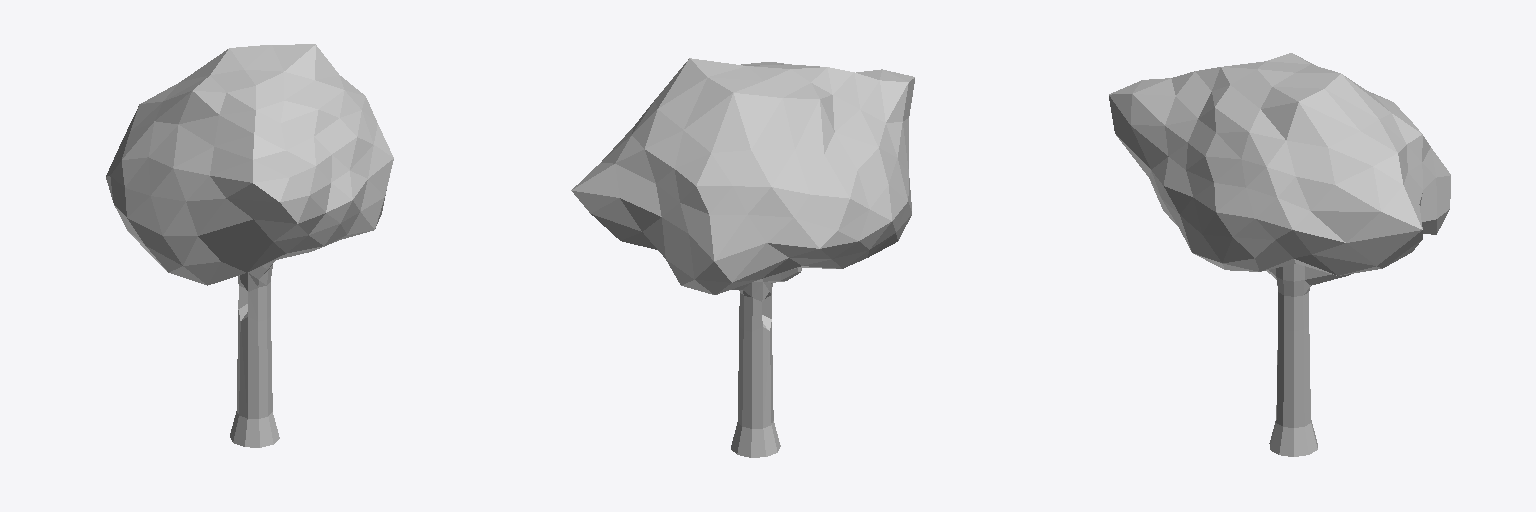
File: afro_tree_green.obj
3 renders of one model, left to right at view 1: azimuth 30°, elevation 25°; view 2: azimuth 150°, elevation 25°; view 3: azimuth 270°, elevation 25°, orthographic.
Visible parts, largest first — view 1: t3-green_Cylinder; view 2: t3-green_Cylinder; view 3: t3-green_Cylinder.
Part boxes in pixels (bbox=[...]): t3-green_Cylinder: bbox=[106, 44, 393, 447]; t3-green_Cylinder: bbox=[571, 58, 914, 457]; t3-green_Cylinder: bbox=[1109, 53, 1450, 456].
Bounding box in the file's own units: 6.51 × 9.23 × 7.64.